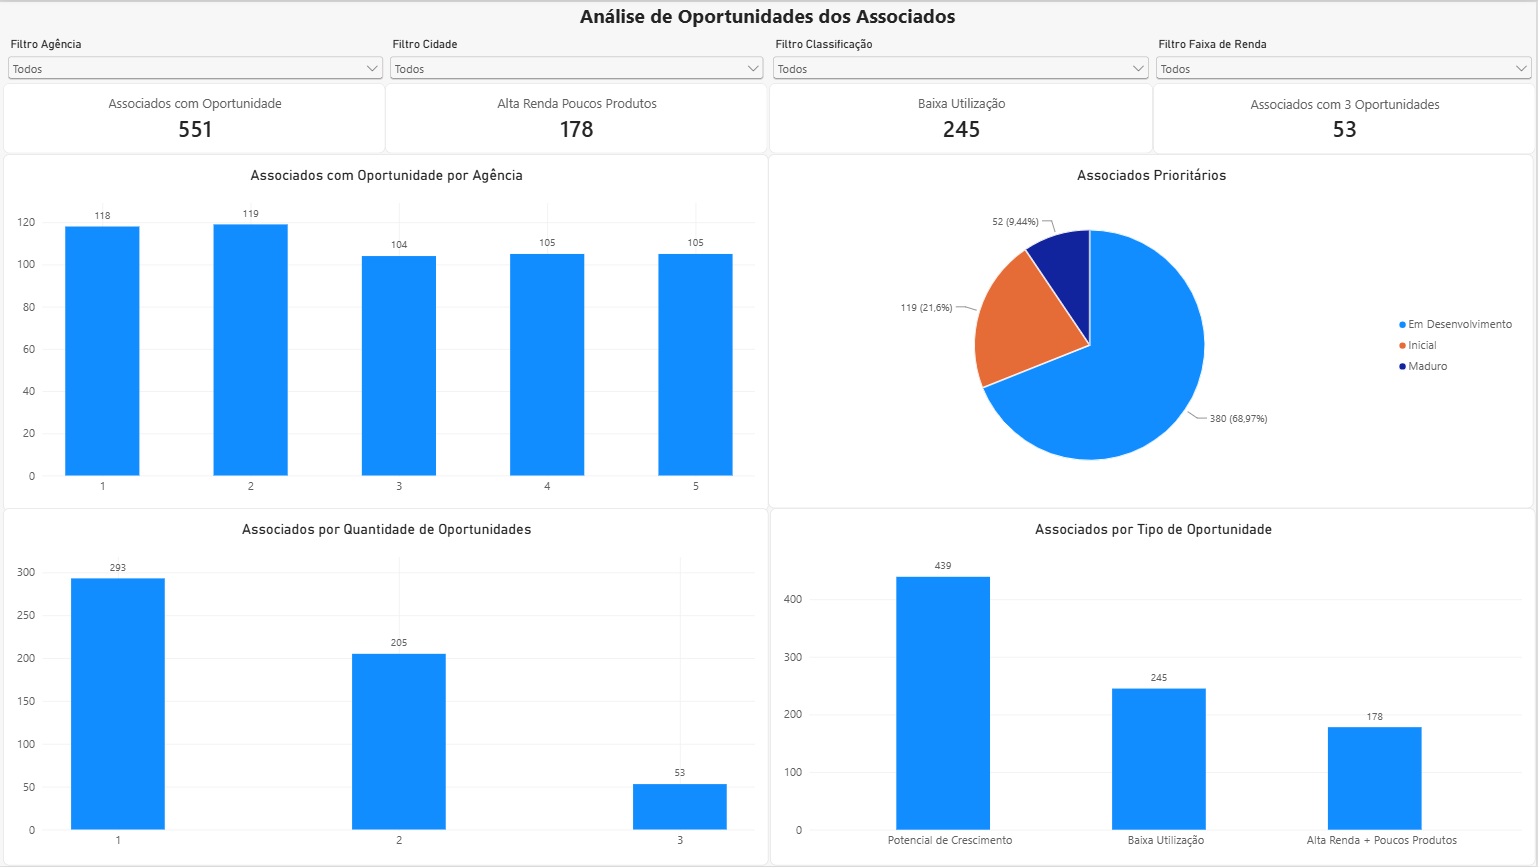

The dashboard page shown, as its layout file describes it:
{"tool":"powerbi","page":{"name":"Oportunidades","canvas":[1920,1080],"ordinal":3},"visuals":[{"type":"textbox","box":[0,0,1918.6,37.1],"z":0},{"type":"slicer","fields":{"Values":["Associados.AGENCIA"]},"box":[4.5,44.7,478.6,58.6],"z":1000},{"type":"slicer","fields":{"Values":["Associados.CIDADE"]},"box":[483.1,44.7,477.1,58.6],"z":2000},{"type":"slicer","fields":{"Values":["Associados.CLASSIFICACAO"]},"box":[961.7,44.7,480,58.6],"z":3000},{"type":"slicer","fields":{"Values":["Associados.FAIXA_RENDA"]},"box":[1440,44.7,480,58.6],"z":4000},{"type":"cardVisual","fields":{"Data":["Associados.Associados com Oportunidade"]},"box":[3.7,101.2,478.6,88.6],"z":5000},{"type":"cardVisual","fields":{"Data":["Associados.Alta Prioridade"]},"box":[1441.5,101.5,478.5,89.2],"z":6000},{"type":"cardVisual","fields":{"Data":["Associados.Baixa Utilização"]},"box":[961.7,101.2,480,88.6],"z":7000},{"type":"cardVisual","fields":{"Data":["Associados.Alta Renda Poucos Produtos"]},"box":[481.5,101.5,478.6,88.6],"z":8000},{"type":"clusteredColumnChart","title":"Associados com Oportunidade por Agência","fields":{"Category":["Associados.AGENCIA"],"Y":["Associados.Associados com Oportunidade"]},"box":[3.7,190.1,956.8,446.9],"z":8001},{"type":"pieChart","title":"Associados Prioritários","fields":{"Category":["Associados.CLASSIFICACAO"],"Y":["Associados.Associados com Oportunidade"]},"box":[960,190,957.1,442.9],"z":8002},{"type":"clusteredColumnChart","title":"Associados por Quantidade de Oportunidades","fields":{"Category":["Associados.QTD_OPORTUNIDADES"],"Y":["Associados.Total Associados"]},"box":[4.3,632.9,956.8,446.9],"z":8003},{"type":"clusteredColumnChart","title":"Associados por Tipo de Oportunidade","fields":{"Category":["Tipos Oportunidade.Tipo"],"Y":["Associados.Total por Tipo de Oportunidade"]},"box":[962.9,632.9,957.1,447.1],"z":8004}]}

Visuals, with their boxes in screenshot pixels (x1, y1, x2, y2), scaled from the page's 1920x1080 canvas onto the 1538x867 screenshot:
textbox: 0/0/1537/30
slicer - Associados.AGENCIA: 4/36/387/83
slicer - Associados.CIDADE: 387/36/769/83
slicer - Associados.CLASSIFICACAO: 770/36/1155/83
slicer - Associados.FAIXA_RENDA: 1154/36/1537/83
cardVisual - Associados.Associados com Oportunidade: 3/81/386/152
cardVisual - Associados.Alta Prioridade: 1155/81/1537/153
cardVisual - Associados.Baixa Utilização: 770/81/1155/152
cardVisual - Associados.Alta Renda Poucos Produtos: 386/81/769/153
"Associados com Oportunidade por Agência" clusteredColumnChart: 3/153/769/511
"Associados Prioritários" pieChart: 769/153/1536/508
"Associados por Quantidade de Oportunidades" clusteredColumnChart: 3/508/770/866
"Associados por Tipo de Oportunidade" clusteredColumnChart: 771/508/1537/866
